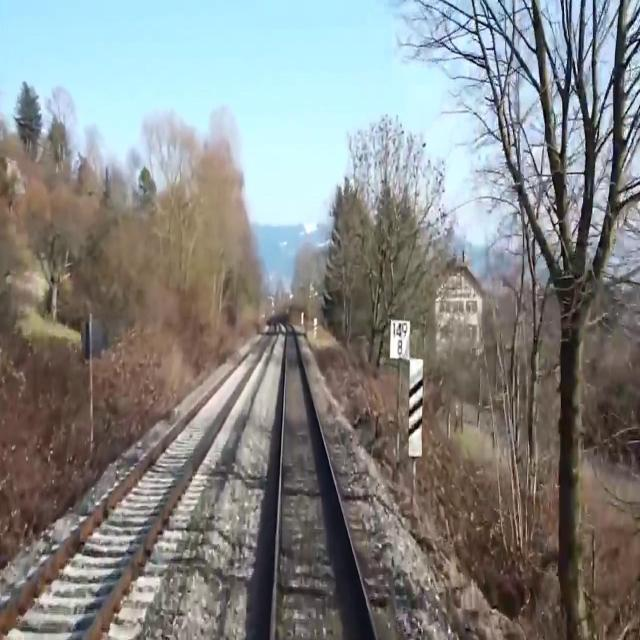rail-track: (2, 322, 274, 637), (275, 325, 373, 639)
